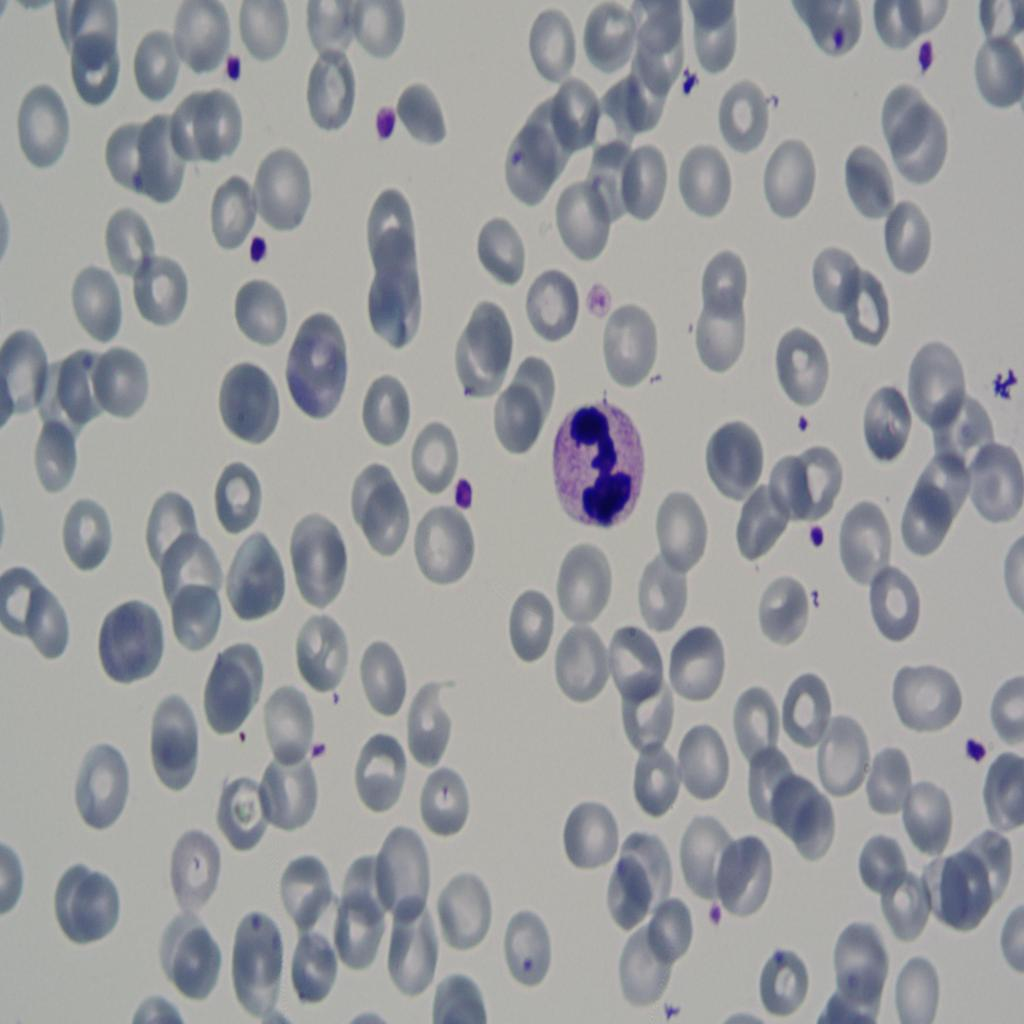Neutrofil: (546, 393, 650, 535)
Platelet: (451, 466, 481, 529), (802, 505, 833, 562), (702, 897, 736, 948), (915, 28, 945, 85), (215, 46, 250, 94), (372, 98, 406, 142), (962, 725, 992, 774), (587, 280, 615, 332), (668, 68, 704, 106), (247, 221, 276, 263), (821, 16, 852, 54), (792, 404, 814, 439)
